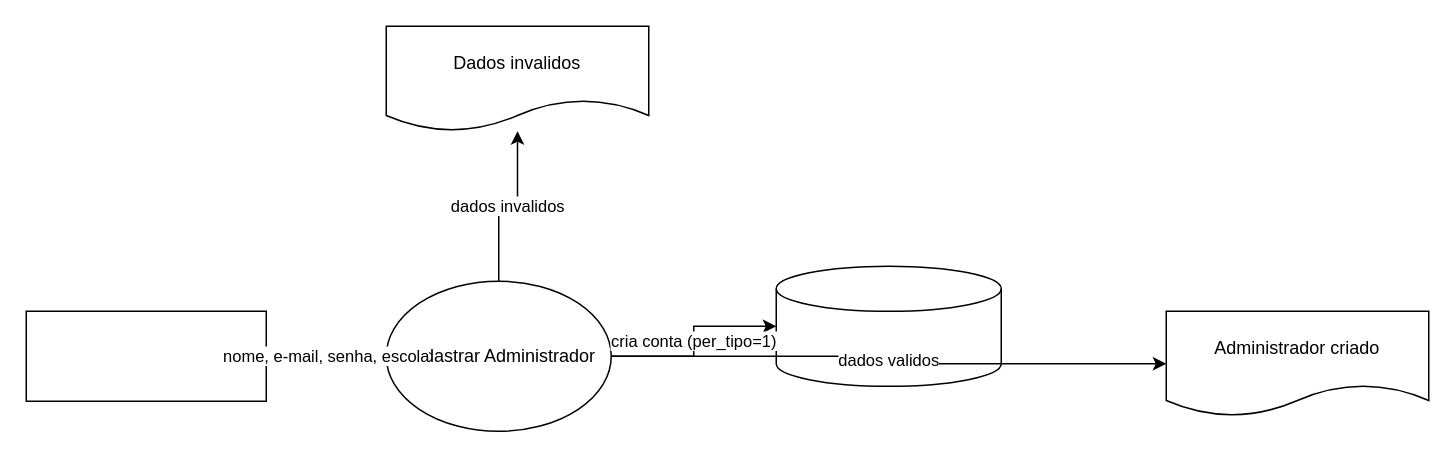
The diagram is 1455 pixels wide and 458 high, and some of its shapes have lost their labels. Each missing label, with the centre of its shape:
"Desenvolvedor" belongs at (145,355).
"USUARIOS" belongs at (888,325).
